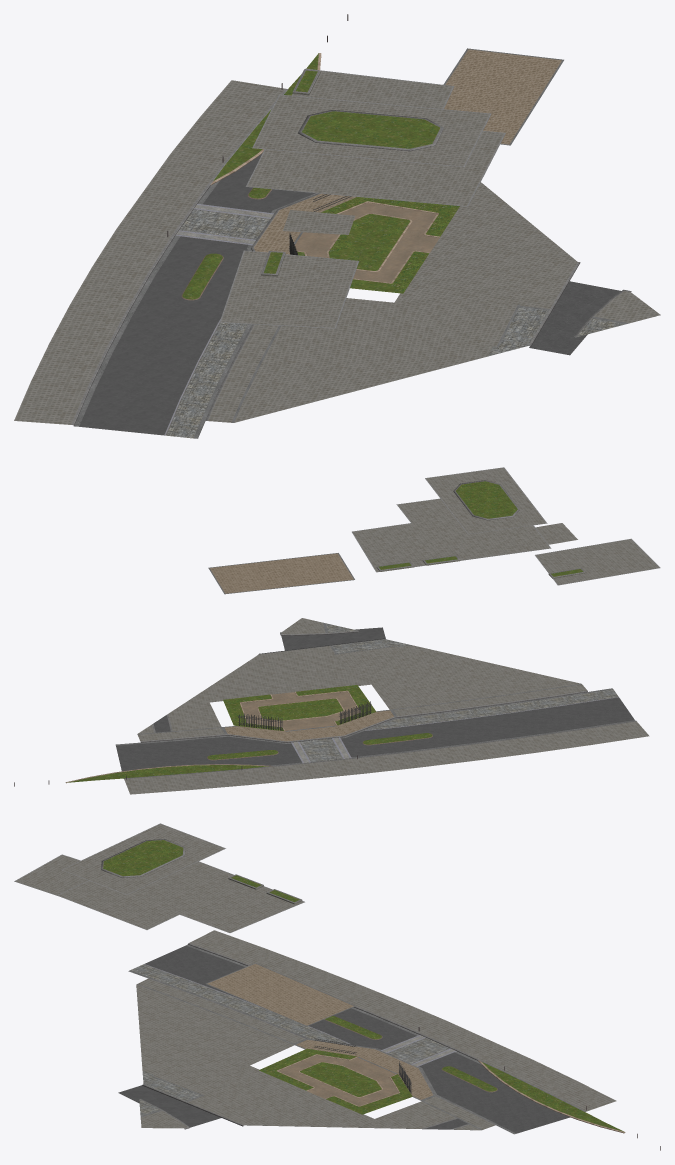
3 renders of one model, top to bottom at view 1: azimuth 30°, elevation 25°; view 2: azimuth 150°, elevation 25°; view 3: azimuth 270°, elevation 25°, orthographic. The views are drawn at different scales.
Visible parts, largest first — view 1: um_t1_g21_1_model_t1_g21_1_modelShape, nomerge_t1_g21_1_vrt_col; view 2: um_t1_g21_1_model_t1_g21_1_modelShape, nomerge_t1_g21_1_vrt_col; view 3: um_t1_g21_1_model_t1_g21_1_modelShape, nomerge_t1_g21_1_vrt_col.
Boxes of the visible parts, <box> form: um_t1_g21_1_model_t1_g21_1_modelShape: <box>14,14,660,438</box>; nomerge_t1_g21_1_vrt_col: <box>328,214,410,270</box>; um_t1_g21_1_model_t1_g21_1_modelShape: <box>14,467,660,794</box>; nomerge_t1_g21_1_vrt_col: <box>258,698,343,720</box>; um_t1_g21_1_model_t1_g21_1_modelShape: <box>14,823,660,1150</box>; nomerge_t1_g21_1_vrt_col: <box>300,1062,381,1096</box>.
Size of the model in its own units: 83.97 by 31.06 by 104.
Materials: 15 (15 with a texture image).
